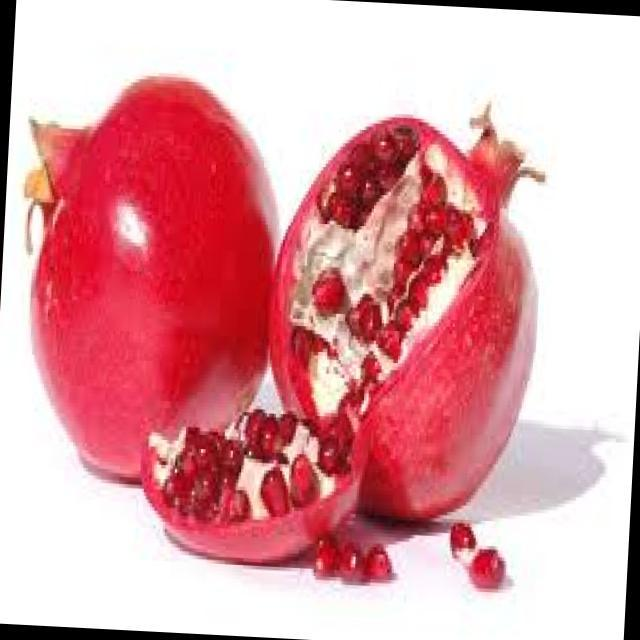Pomegranate: (188, 66, 575, 634)
